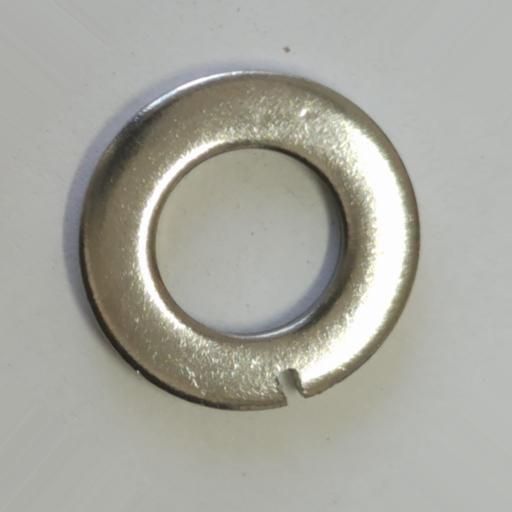burr: (277, 370, 303, 399)
